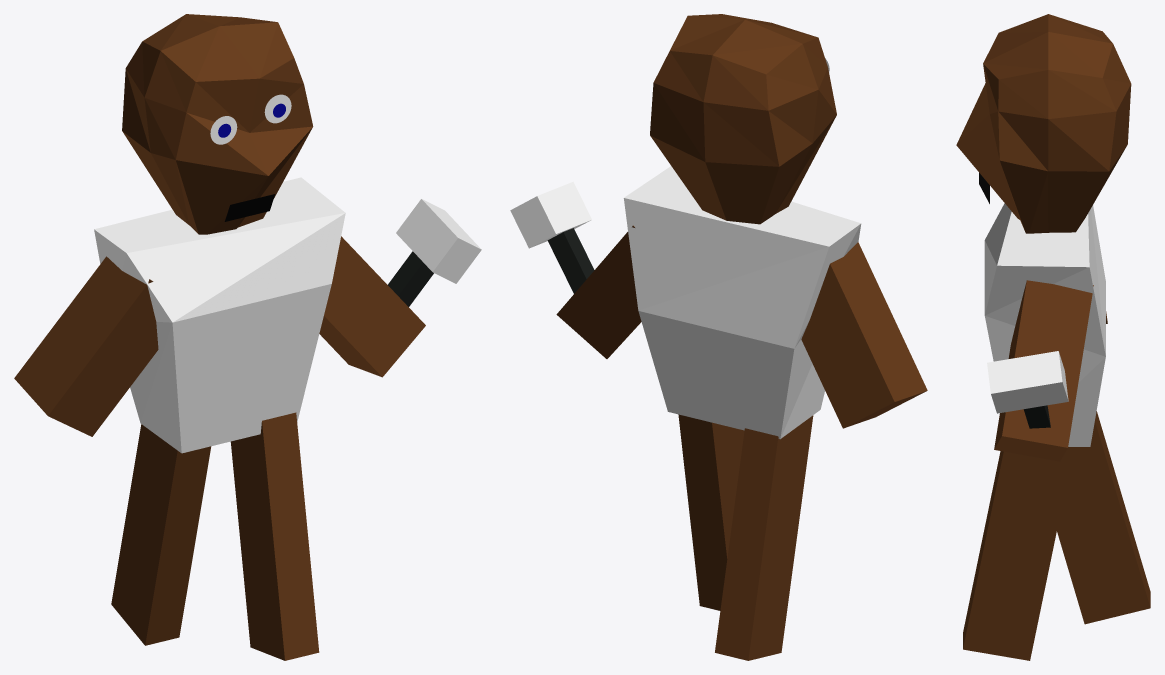
Rendered from slave2.obj.
The picture shows the model from 3 angles, left to right: view 1: azimuth 30°, elevation 25°; view 2: azimuth 150°, elevation 25°; view 3: azimuth 270°, elevation 25°; orthographic projection. The views are drawn at different scales.
Parts seen in each view (by area): view 1: Cube.001, Cube, Cube.005, Cube.003, Cube.004, Cube.002, Cube.008, Cube.007, Plane; view 2: Cube.001, Cube, Cube.004, Cube.003, Cube.005, Cube.002, Cube.008, Cube.007; view 3: Cube, Cube.005, Cube.001, Cube.004, Cube.002, Cube.008, Cube.007.
Part boxes in pixels (x1,y1,x2,y2): Cube.001: (94,177,345,453); Cube: (122,14,313,234); Cube.005: (230,412,319,660); Cube.003: (14,256,158,436); Cube.004: (111,424,211,645); Cube.002: (319,236,425,377); Cube.008: (396,199,481,283); Cube.007: (388,251,433,306); Plane: (224,194,275,221); Cube.001: (623,166,861,439); Cube: (650,14,836,224); Cube.004: (715,415,813,660); Cube.003: (801,242,927,428); Cube.005: (678,414,744,610); Cube.002: (556,225,641,358); Cube.008: (510,181,591,248); Cube.007: (547,228,594,293); Cube: (956,14,1131,233); Cube.005: (963,447,1074,660); Cube.001: (984,203,1105,446); Cube.004: (1057,411,1150,624); Cube.002: (994,280,1093,461); Cube.008: (987,351,1068,413); Cube.007: (1023,405,1050,428).
Size of the model in its own units: 4.16 by 5.98 by 1.75.
